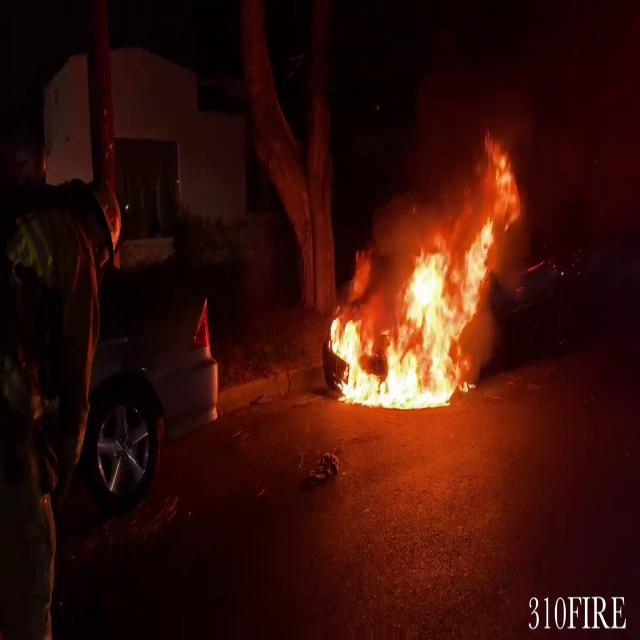Fire: (326, 132, 529, 412)
